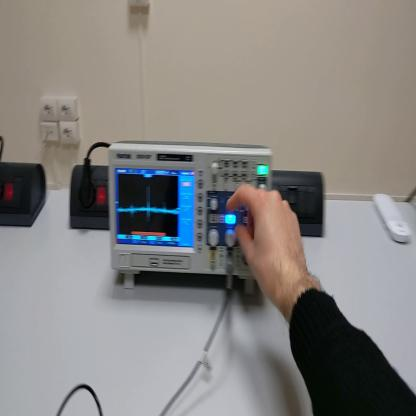hand: (227, 183, 308, 302)
oscilloscope: (112, 141, 278, 297)
socket: (2, 160, 48, 228), (68, 161, 112, 232)
